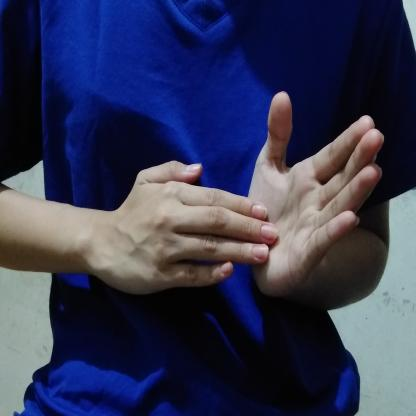mother: (102, 84, 383, 305)
